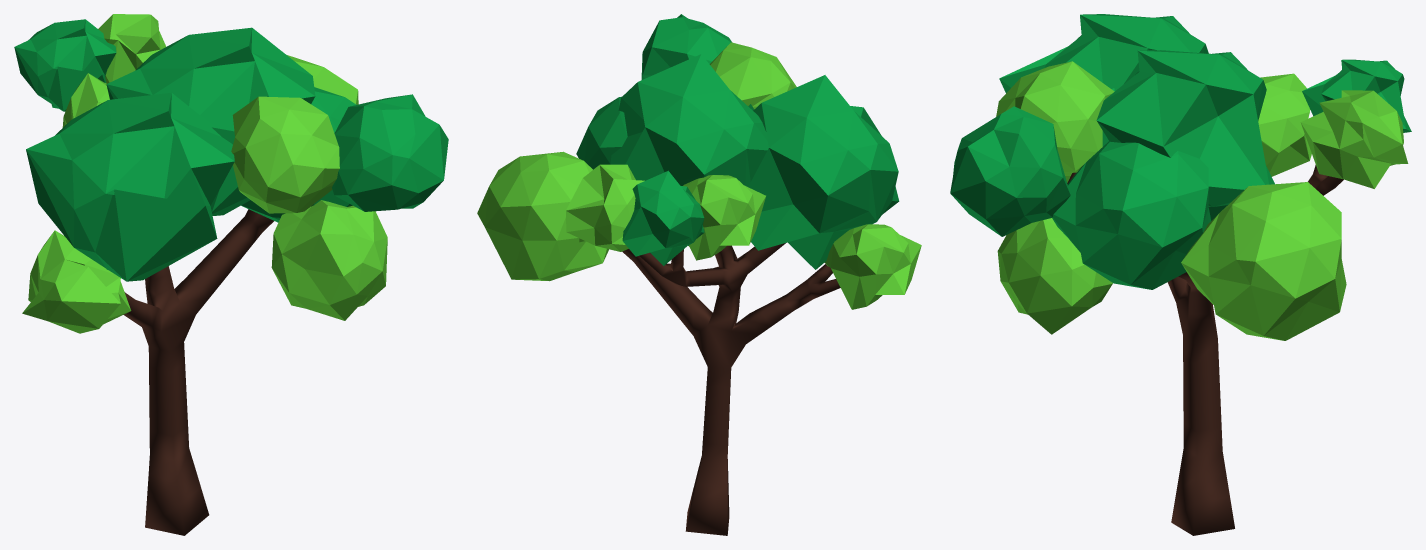
File: LowPolyTree_1.fbx
The picture shows the model from 3 angles, left to right: view 1: azimuth 30°, elevation 25°; view 2: azimuth 150°, elevation 25°; view 3: azimuth 270°, elevation 25°; orthographic projection. The views are drawn at different scales.
Visible parts, largest first — view 1: LowPoly_Tree; view 2: LowPoly_Tree; view 3: LowPoly_Tree.
Part boxes in pixels (<box>): LowPoly_Tree: <box>14,14,448,535</box>; LowPoly_Tree: <box>477,14,921,535</box>; LowPoly_Tree: <box>950,14,1411,535</box>.
Bounding box in the file's own units: 162 × 192 × 161.
